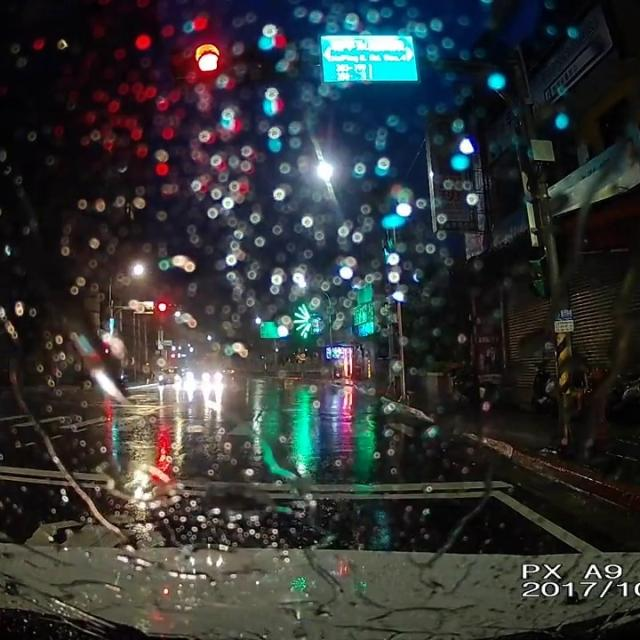Car: (153, 364, 182, 385)
